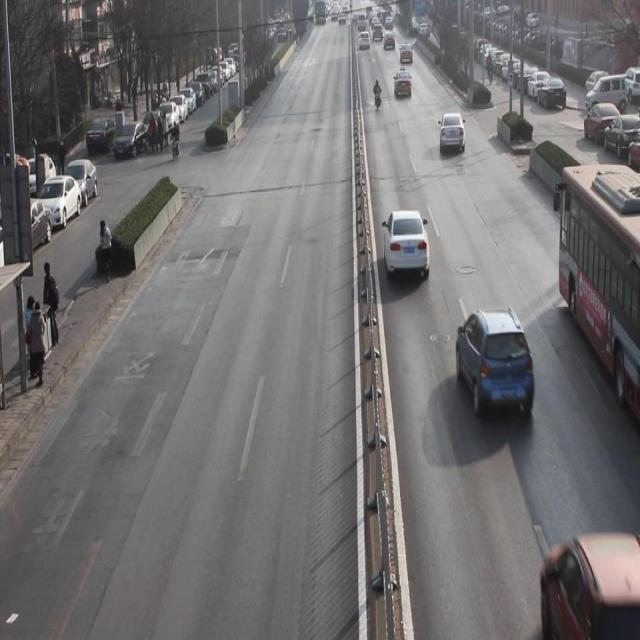car: (541, 535, 639, 640), (456, 306, 535, 428), (385, 209, 432, 288), (439, 111, 466, 157), (394, 70, 413, 104), (400, 46, 413, 68)
van: (556, 167, 640, 418)
